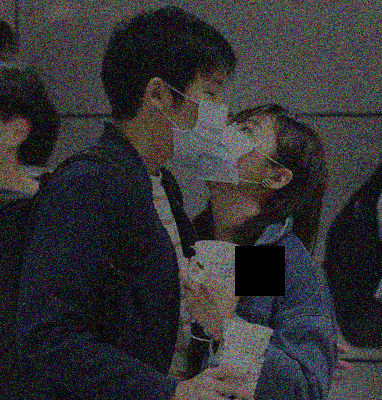with_mask: (192, 116, 276, 183), (164, 77, 230, 152)
